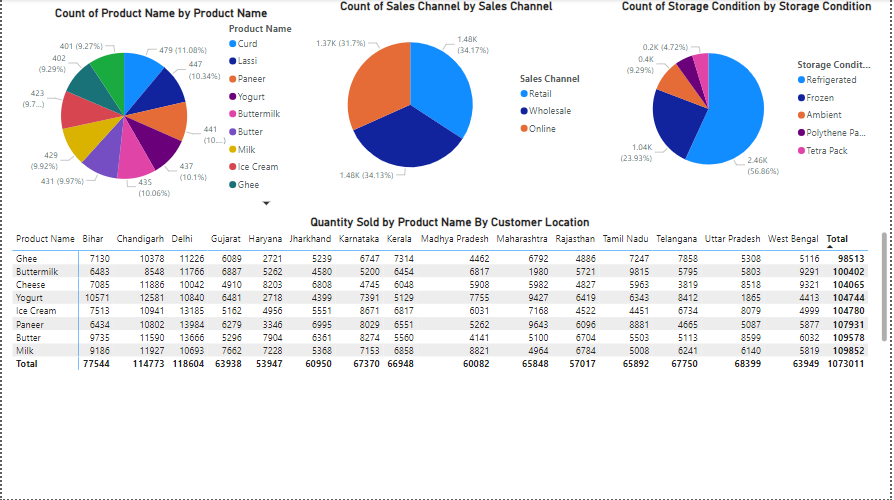

The page's visual inventory and layout, read from the dashboard file:
{"tool":"powerbi","page":{"name":"Page 4","canvas":[1280,720],"ordinal":3},"visuals":[{"type":"pivotTable","title":"Quantity Sold by Product Name By Customer Location","fields":{"Rows":["dairy_dataset.Product Name"],"Columns":["dairy_dataset.Customer Location"],"Values":["Sum(dairy_dataset.Quantity Sold (liters/kg))"]},"box":[10.1,310.8,1269.9,228.5],"z":1000},{"type":"pieChart","fields":{"Category":["dairy_dataset.Sales Channel"],"Y":["CountNonNull(dairy_dataset.Sales Channel)"]},"box":[425,0,430,285.6],"z":3000},{"type":"pieChart","fields":{"Category":["dairy_dataset.Storage Condition"],"Y":["CountNonNull(dairy_dataset.Storage Condition)"]},"box":[883.6,0,376.3,297.3],"z":4000},{"type":"pieChart","fields":{"Category":["dairy_dataset.Product Name"],"Y":["CountNonNull(dairy_dataset.Product Name)"]},"box":[20.1,10,418.3,297.3],"z":4001}]}

Visuals, with their boxes in screenshot pixels (x1, y1, x2, y2), scaled from the page's 1280x720 canvas onto the 894x500 screenshot:
"Quantity Sold by Product Name By Customer Location" pivotTable: x1=7 y1=216 x2=893 y2=375
pieChart - dairy_dataset.Sales Channel x CountNonNull(dairy_dataset.Sales Channel): x1=297 y1=0 x2=597 y2=198
pieChart - dairy_dataset.Storage Condition x CountNonNull(dairy_dataset.Storage Condition): x1=617 y1=0 x2=880 y2=206
pieChart - dairy_dataset.Product Name x CountNonNull(dairy_dataset.Product Name): x1=14 y1=7 x2=306 y2=213
